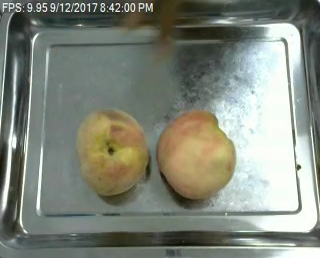Peach: (158, 108, 236, 200), (76, 108, 148, 196)
